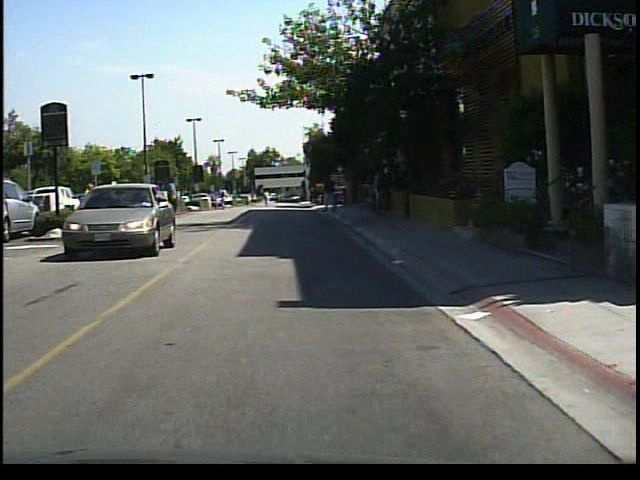person: (372, 162, 395, 224), (108, 178, 130, 230), (321, 170, 343, 219), (164, 173, 184, 221), (82, 183, 99, 227), (219, 187, 232, 214), (261, 191, 271, 210)
